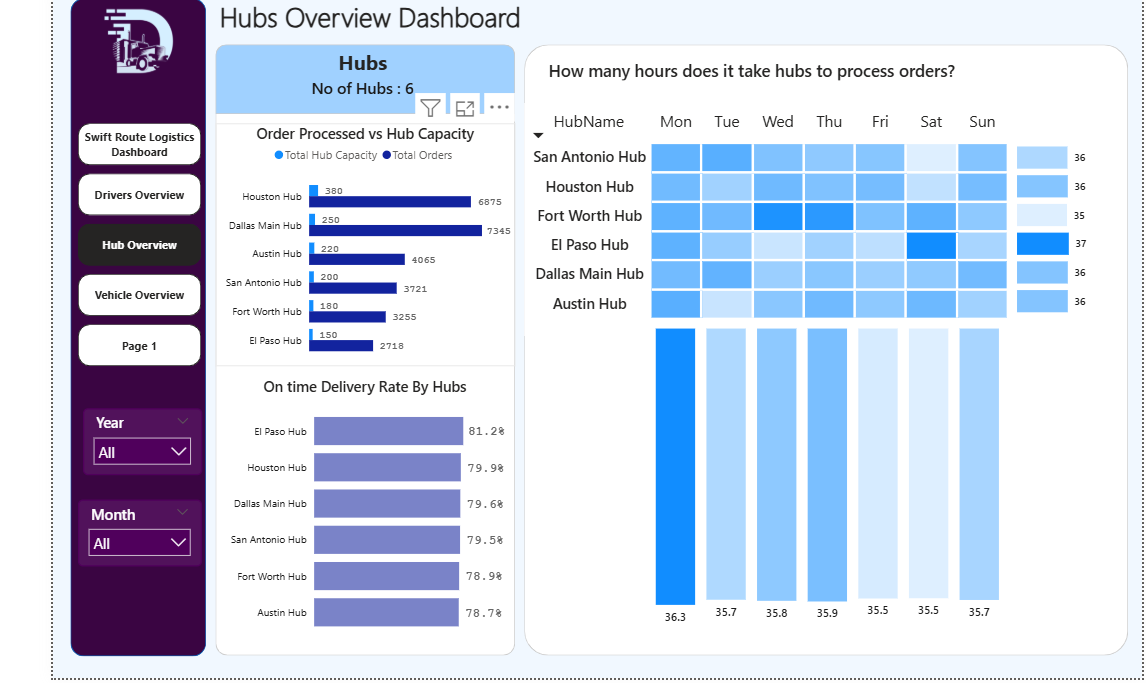

What the dashboard file says about the page in this screenshot:
{"tool":"powerbi","page":{"name":"Hub Overview","canvas":[1300,820],"ordinal":2},"visuals":[{"type":"shape","box":[194.4,63.4,357.7,729.6],"z":0},{"type":"shape","box":[563.4,63.4,721.1,729.6],"z":1000},{"type":"shape","box":[21.1,7,162,785.9],"z":2000},{"type":"textbox","box":[194.4,2.8,383.1,54.9],"z":3000},{"type":"slicer","fields":{"Values":["Calendar Date.Year"]},"box":[35.2,497.2,142.3,80.3],"z":4000},{"type":"slicer","fields":{"Values":["Calendar Date.Month Name"]},"box":[29.6,605.6,147.9,80.3],"z":5000},{"type":"shape","box":[194.4,63.4,357.7,83.1],"z":6000},{"type":"textbox","box":[290.1,63.4,160.6,43.7],"z":7000},{"type":"cardVisual","fields":{"Data":["Measure Data.Total Hubs"]},"box":[264.8,91.5,211.3,43.7],"z":8000},{"type":"barChart","title":"On time Delivery Rate By Hubs","fields":{"Category":["Dim_Hubs.HubName"],"Y":["Measure Data.OTDR"]},"box":[200,459.2,345.1,321.1],"z":9000},{"type":"image","box":[26.8,12.7,152.1,100],"z":10000},{"type":"cardVisual","fields":{"Data":["Measure Data.Year-Month Title"]},"box":[904.2,7,339.4,47.9],"z":11000},{"type":"clusteredBarChart","title":"Order Processed vs Hub Capacity","fields":{"Category":["Dim_Hubs.HubName"],"Y":["Measure Data.Total Hub Capacity","Measure Data.Total Orders"]},"box":[194.4,156.3,357.7,291.5],"z":12000},{"type":"pivotTable","fields":{"Rows":["Dim_Hubs.HubName"],"Columns":["Calendar Date.Weekday Name"],"Values":["Measure Data.Average Delivery Time (Hr)"]},"box":[563.4,132.4,583.1,277.5],"z":13000},{"type":"columnChart","fields":{"Y":["Measure Data.Average Delivery Time (Hr)"],"Category":["Calendar Date.Weekday Name"]},"box":[715.5,388.7,421.1,376.1],"z":14000},{"type":"barChart","fields":{"Category":["Dim_Hubs.HubName"],"Y":["Measure Data.Average Delivery Time (Hr)"]},"box":[1146.5,171.8,138,216.9],"z":15000},{"type":"cardVisual","fields":{"Data":["Measure Data.Hub Title"]},"box":[563.4,63.4,549.3,60.6],"z":16000},{"type":"pageNavigator","box":[29.6,156.3,147.9,293],"z":17000}]}

Visuals, with their boxes on the page's 1300x820 design canvas (x1, y1, x2, y2). These are canvas units, not pixel positions in the 1146x683 screenshot, which may show the page scaled, cropped or inside an application window:
shape: [left=194, top=63, right=552, bottom=793]
shape: [left=563, top=63, right=1284, bottom=793]
shape: [left=21, top=7, right=183, bottom=793]
textbox: [left=194, top=3, right=578, bottom=58]
slicer - Calendar Date.Year: [left=35, top=497, right=178, bottom=578]
slicer - Calendar Date.Month Name: [left=30, top=606, right=178, bottom=686]
shape: [left=194, top=63, right=552, bottom=146]
textbox: [left=290, top=63, right=451, bottom=107]
cardVisual - Measure Data.Total Hubs: [left=265, top=92, right=476, bottom=135]
"On time Delivery Rate By Hubs" barChart: [left=200, top=459, right=545, bottom=780]
image: [left=27, top=13, right=179, bottom=113]
cardVisual - Measure Data.Year-Month Title: [left=904, top=7, right=1244, bottom=55]
"Order Processed vs Hub Capacity" clusteredBarChart: [left=194, top=156, right=552, bottom=448]
pivotTable - Dim_Hubs.HubName x Calendar Date.Weekday Name: [left=563, top=132, right=1146, bottom=410]
columnChart - Measure Data.Average Delivery Time (Hr) x Calendar Date.Weekday Name: [left=716, top=389, right=1137, bottom=765]
barChart - Dim_Hubs.HubName x Measure Data.Average Delivery Time (Hr): [left=1146, top=172, right=1284, bottom=389]
cardVisual - Measure Data.Hub Title: [left=563, top=63, right=1113, bottom=124]
pageNavigator: [left=30, top=156, right=178, bottom=449]
